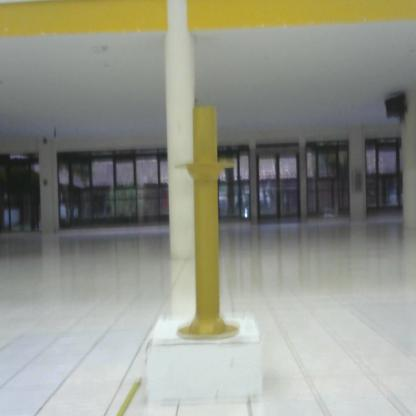pole: (170, 104, 246, 342)
